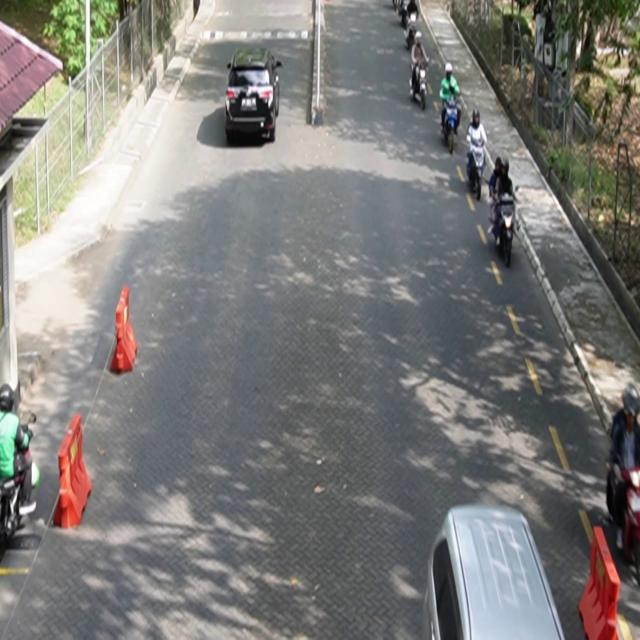car: (423, 504, 567, 640), (226, 47, 283, 143)
